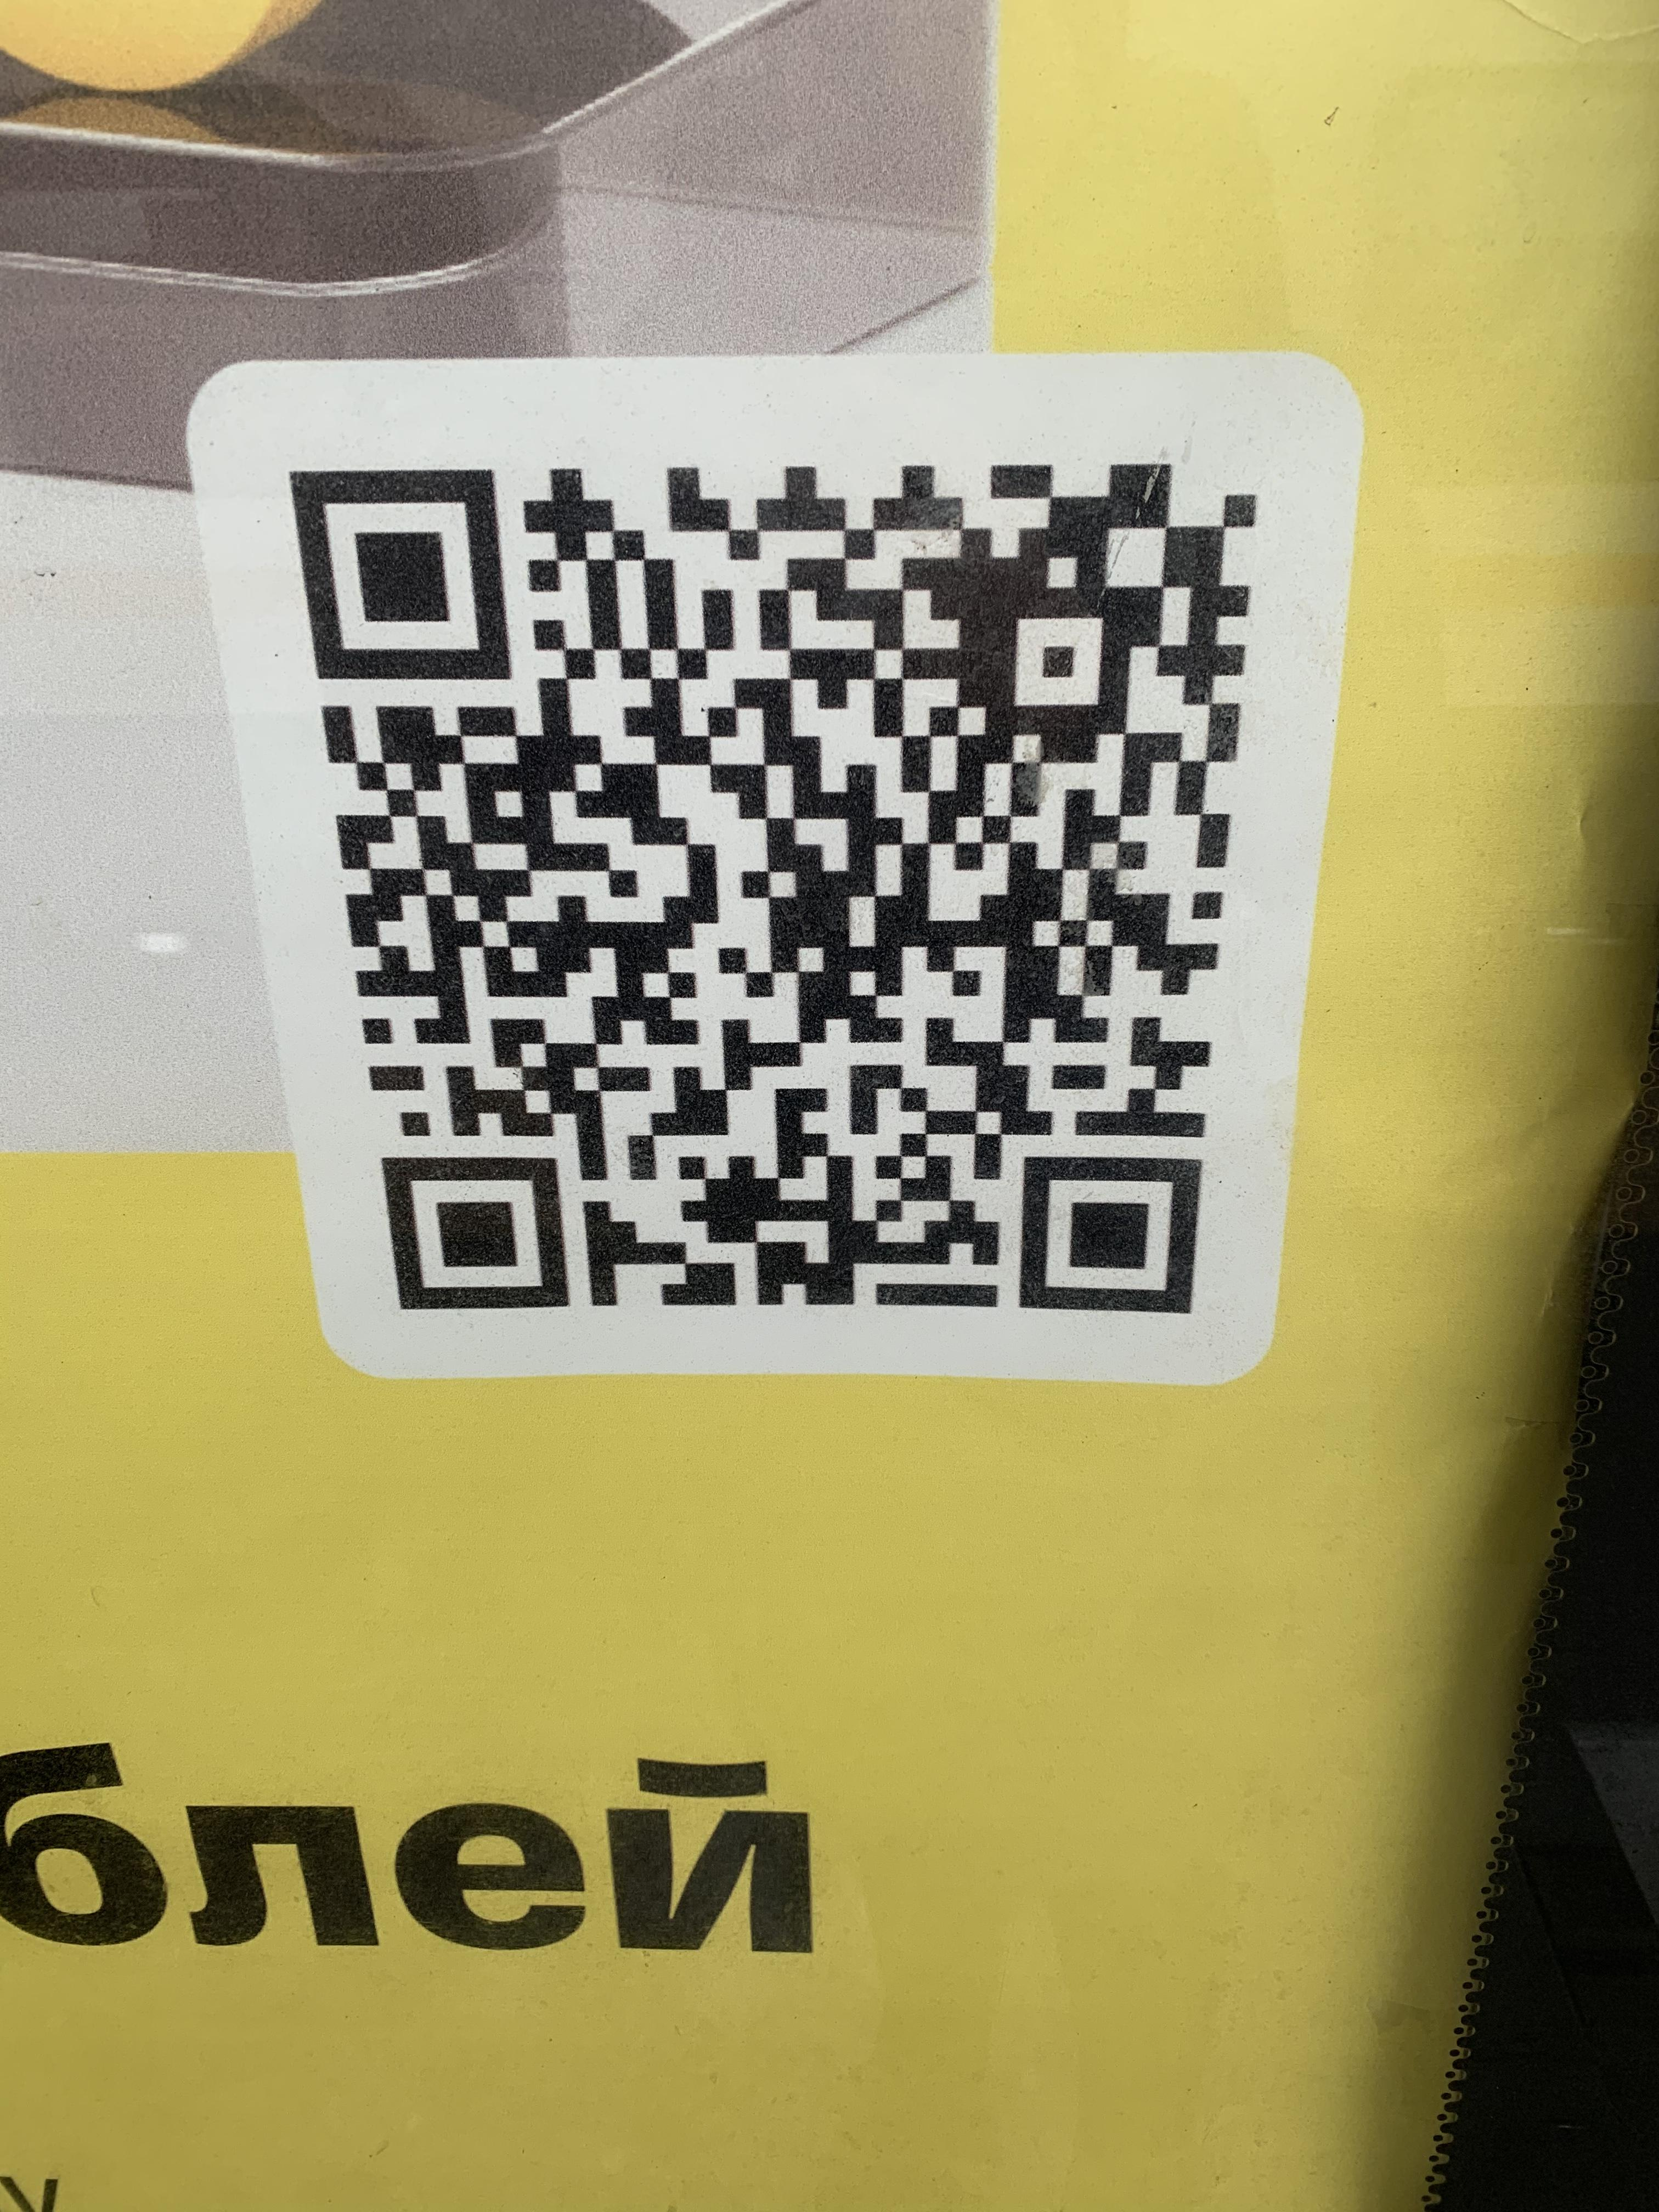qrcode: (289, 462, 1260, 1312)
